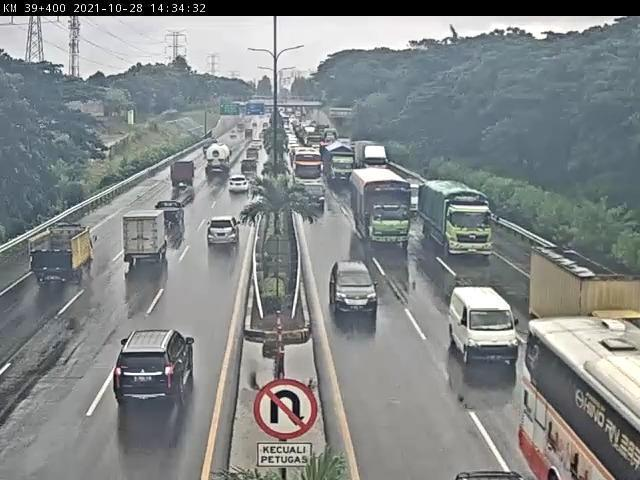bus: (529, 312, 640, 480)
car: (112, 325, 196, 405), (449, 288, 522, 368), (327, 260, 380, 318), (209, 217, 241, 246), (156, 200, 186, 226), (404, 180, 424, 216), (229, 173, 253, 195), (304, 185, 327, 207)
truck: (532, 243, 640, 339), (420, 180, 499, 263), (350, 169, 412, 246), (30, 223, 98, 288), (124, 209, 167, 271), (205, 144, 234, 179), (170, 159, 196, 189)
